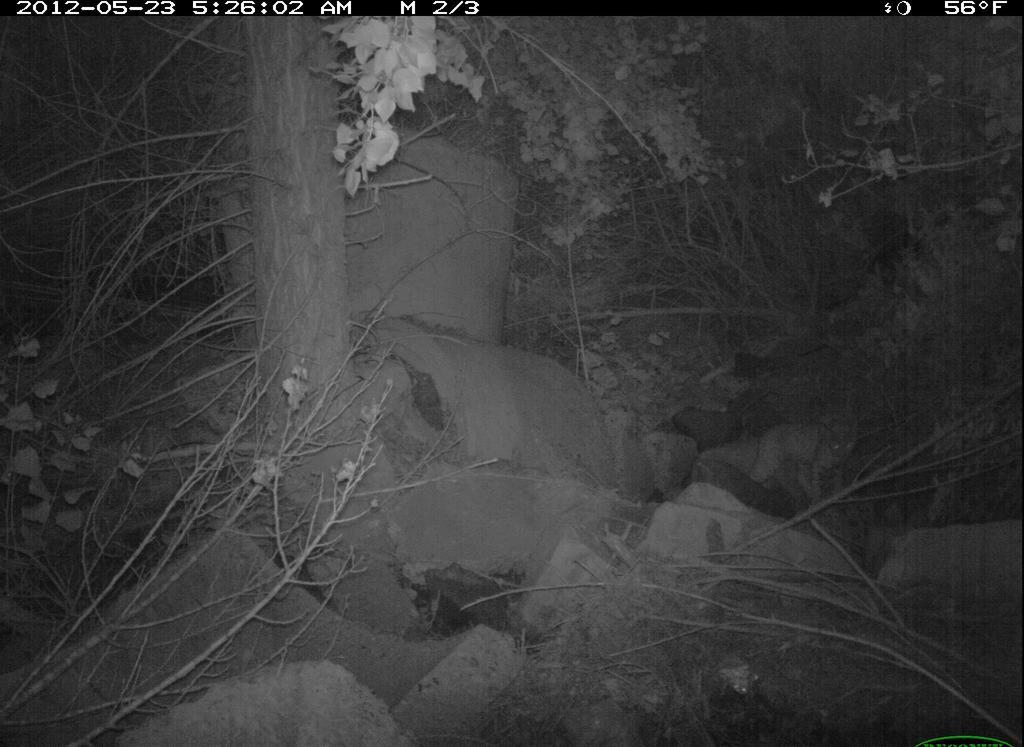bobcat: (729, 408, 867, 501)
